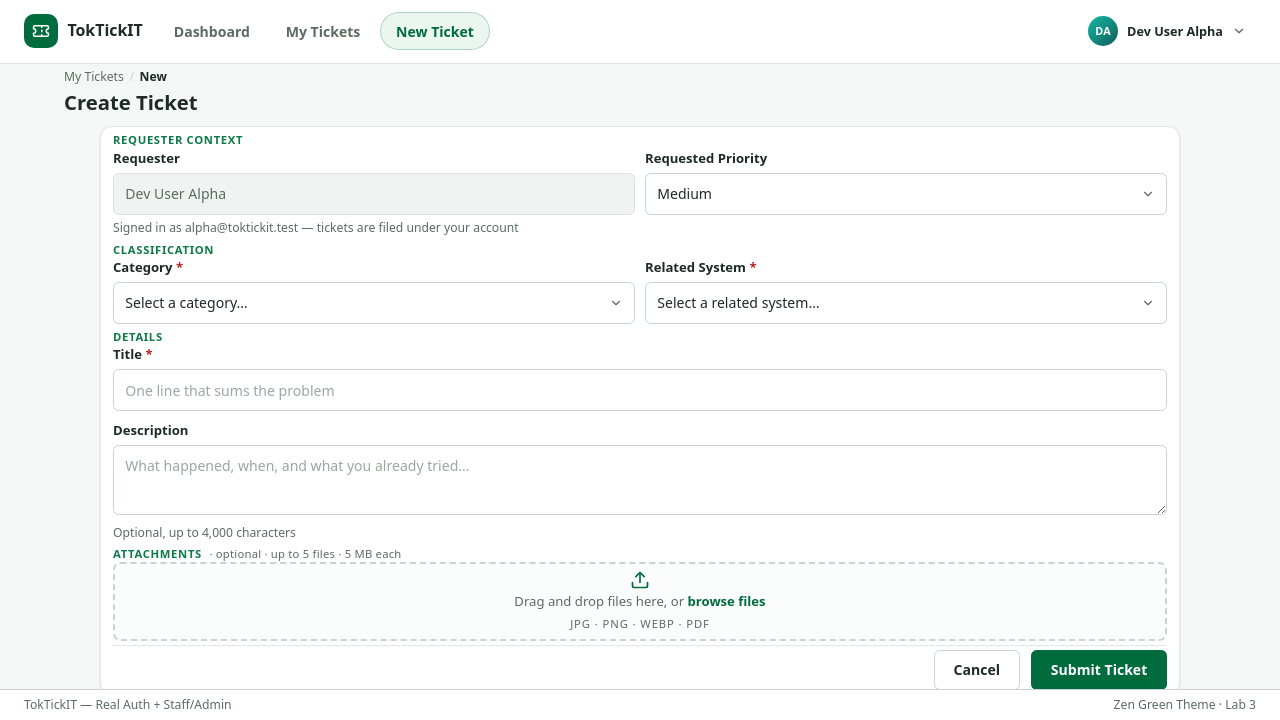
Test case: Create Ticket screen › failure: server 400 renders tok-alert.error with Try again and preserves all input
Expected: the link "New Ticket" is shown, [380,12,490,50]
Type "A very long title the server rejects" into the field labelled "Title *". click: coordinates (640, 390)
box: [113,369,1167,411]
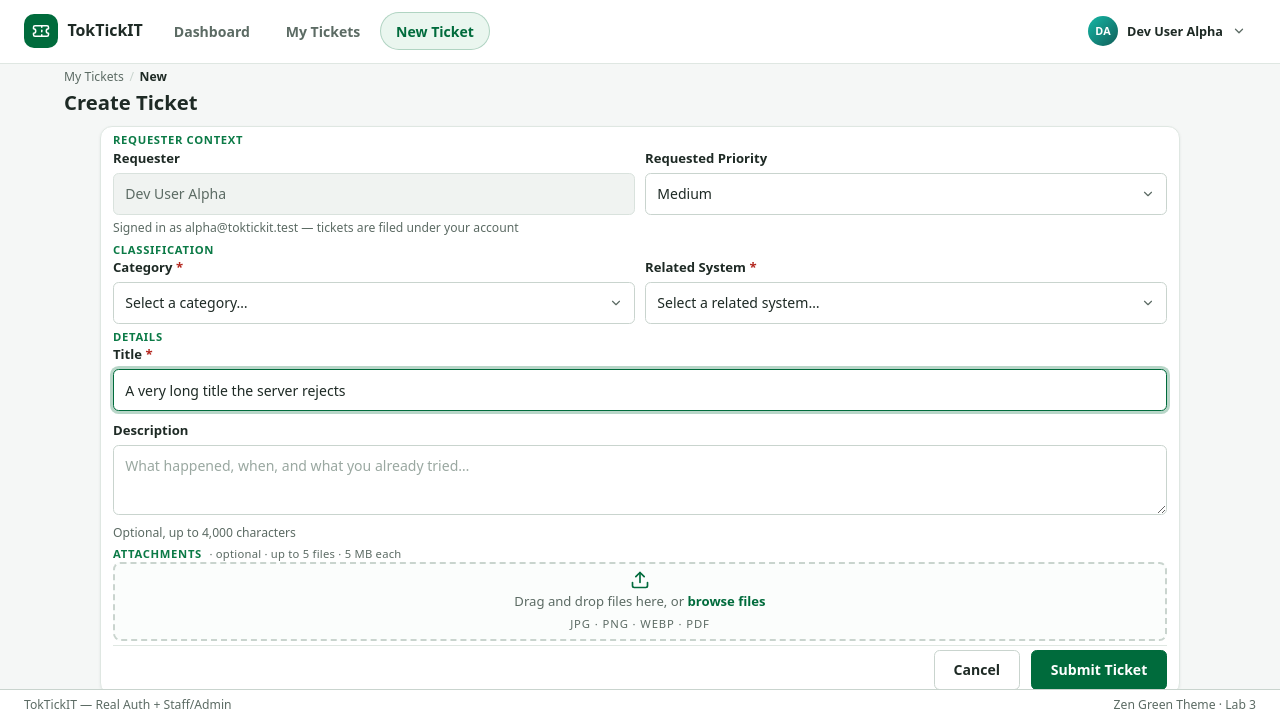
Select "Hardware" in the dropdown labelled "Category *". click: coordinates (374, 303)
box: [113,282,635,324]
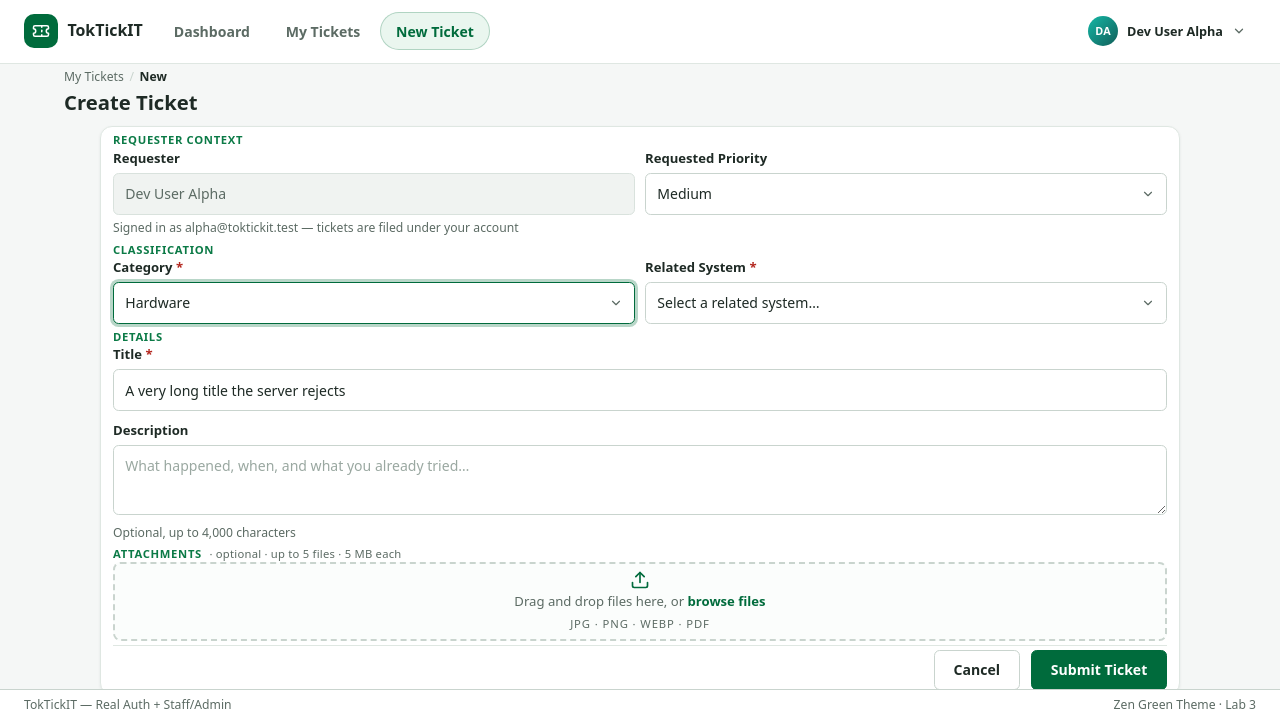
Select "Email" in the dropdown labelled "Related System *". click: coordinates (906, 303)
box: [645,282,1167,324]
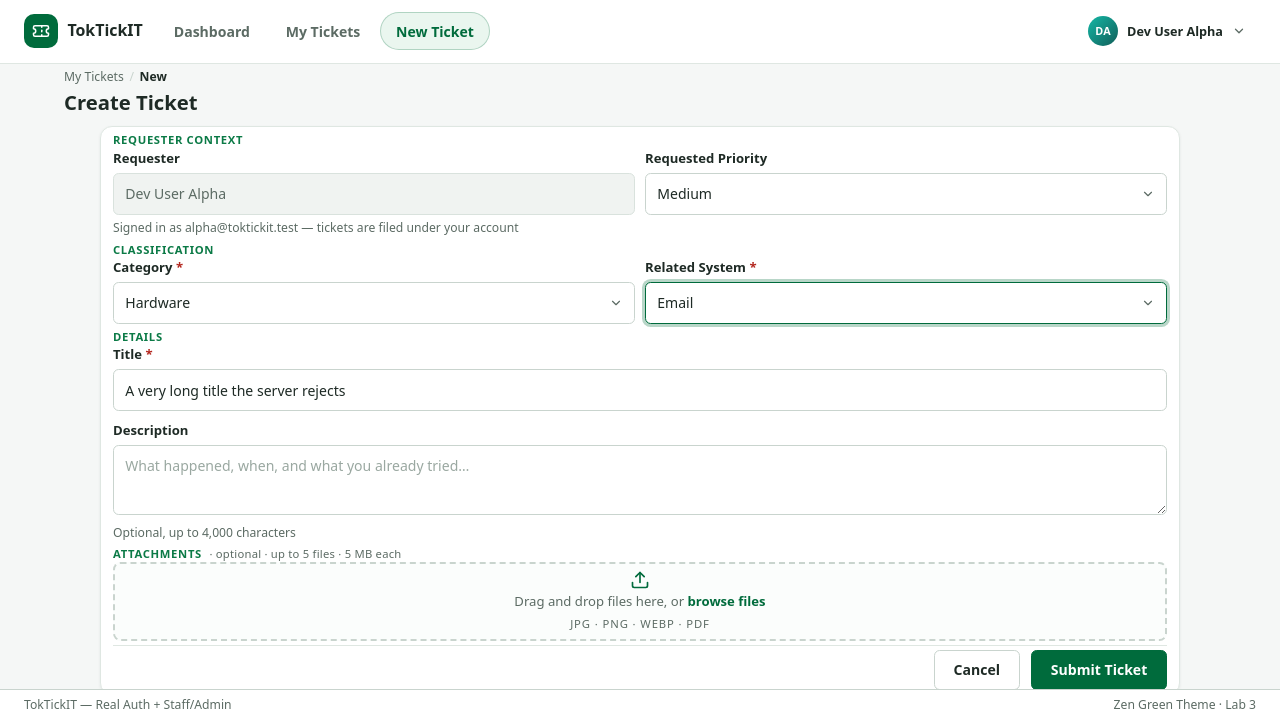
Click the button "Submit Ticket". click: coordinates (1099, 670)
box: [1031,650,1167,690]
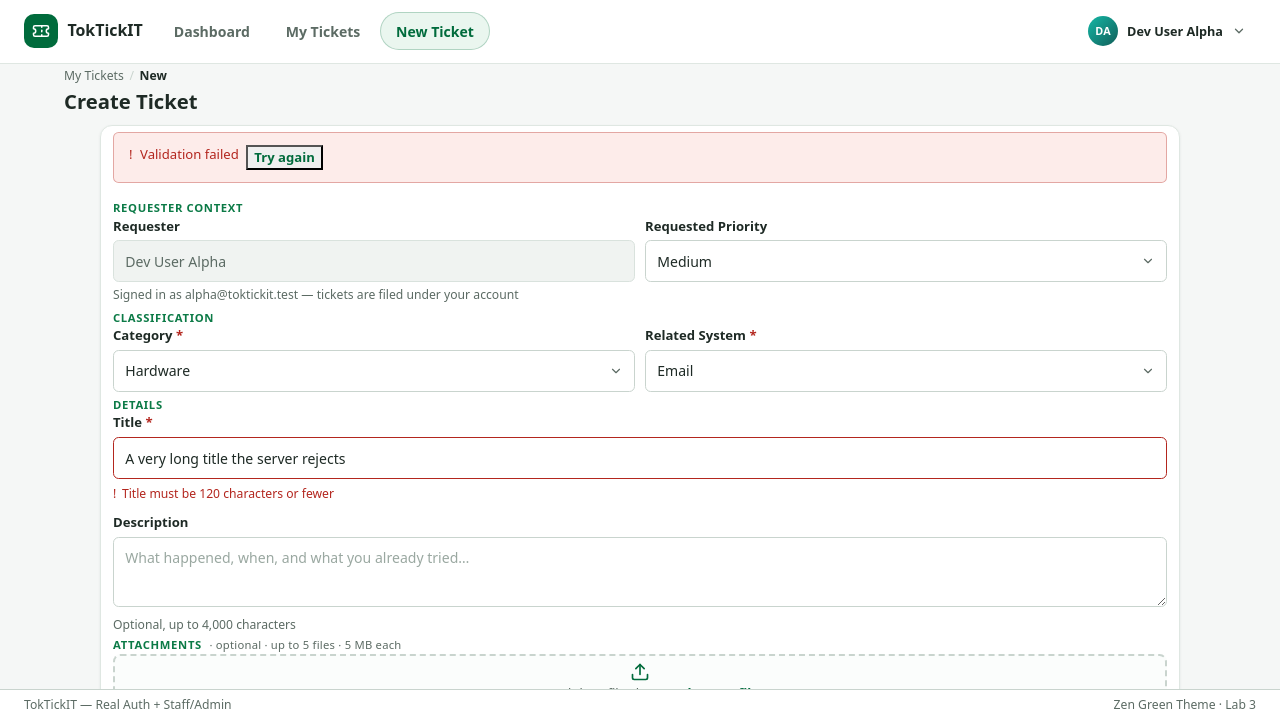
Now the message "! Validation failed Try again" is shown, box [113,132,1167,182]
Now the button "Try again" is shown, box [246,145,323,170]
